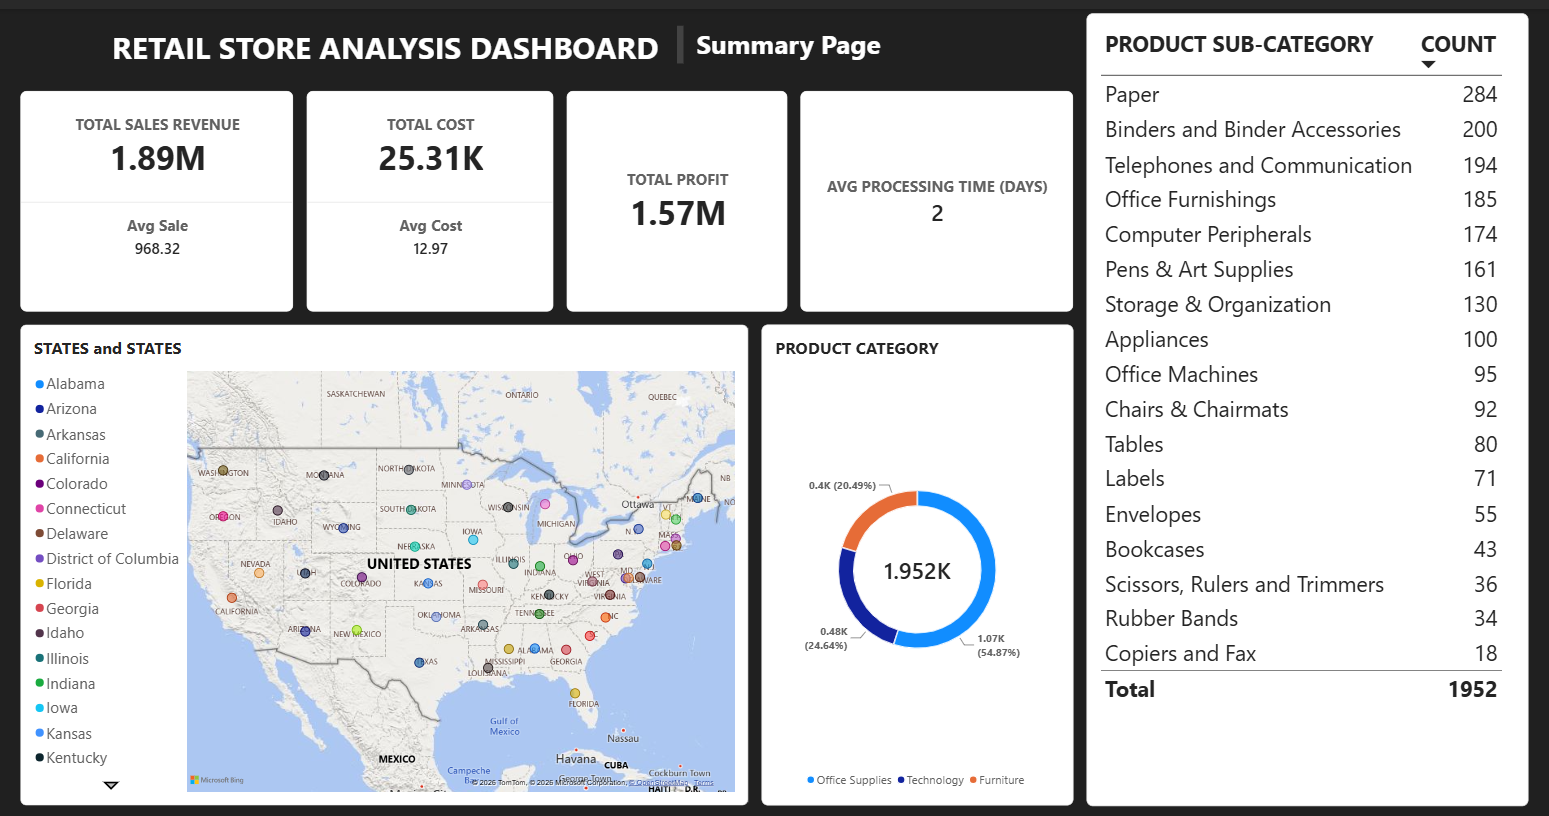

The dashboard page shown, as its layout file describes it:
{"tool":"powerbi","page":{"name":"Page 1","canvas":[1920,1080],"ordinal":0},"visuals":[{"type":"cardVisual","title":"Total Sales Revenue","fields":{"Data":["Sum(Orders.Sales Revenue)"]},"box":[32,128,336,272],"z":0},{"type":"donutChart","title":"PRODUCT CATEGORY","fields":{"Category":["Orders.Product Category"],"Y":["CountNonNull(Orders.Product Category)"]},"box":[944,416,384,592],"z":1000},{"type":"cardVisual","fields":{"Data":["Sum(Orders.Cost price)"]},"box":[384,128,304,272],"z":2000},{"type":"cardVisual","fields":{"Data":["Sum(Orders.Profit)"]},"box":[704,128,272,272],"z":3000},{"type":"tableEx","fields":{"Values":["Orders.Product Sub-Category","CountNonNull(Orders.Product Sub-Category)"]},"box":[1344,32,544,976],"z":4000},{"type":"cardVisual","fields":{"Data":["Orders.Avg Order Processing time"]},"box":[992,128,336,272],"z":5000},{"type":"map","fields":{"Category":["Orders.State or Province"],"Series":["Orders.State or Province"]},"box":[32,416,896,592],"z":6000},{"type":"textbox","box":[100,100,300,300],"z":7000},{"type":"textbox","box":[96,48,1040,48],"z":8000},{"type":"textbox","box":[1040,48,288,48],"z":9000}]}

Visuals, with their boxes on the page's 1920x1080 design canvas (x1, y1, x2, y2). These are canvas units, not pixel positions in the 1549x816 screenshot, which may show the page scaled, cropped or inside an application window:
"Total Sales Revenue" cardVisual: region(32, 128, 368, 400)
"PRODUCT CATEGORY" donutChart: region(944, 416, 1328, 1008)
cardVisual - Sum(Orders.Cost price): region(384, 128, 688, 400)
cardVisual - Sum(Orders.Profit): region(704, 128, 976, 400)
tableEx - Orders.Product Sub-Category x CountNonNull(Orders.Product Sub-Category): region(1344, 32, 1888, 1008)
cardVisual - Orders.Avg Order Processing time: region(992, 128, 1328, 400)
map - Orders.State or Province x Orders.State or Province: region(32, 416, 928, 1008)
textbox: region(100, 100, 400, 400)
textbox: region(96, 48, 1136, 96)
textbox: region(1040, 48, 1328, 96)
